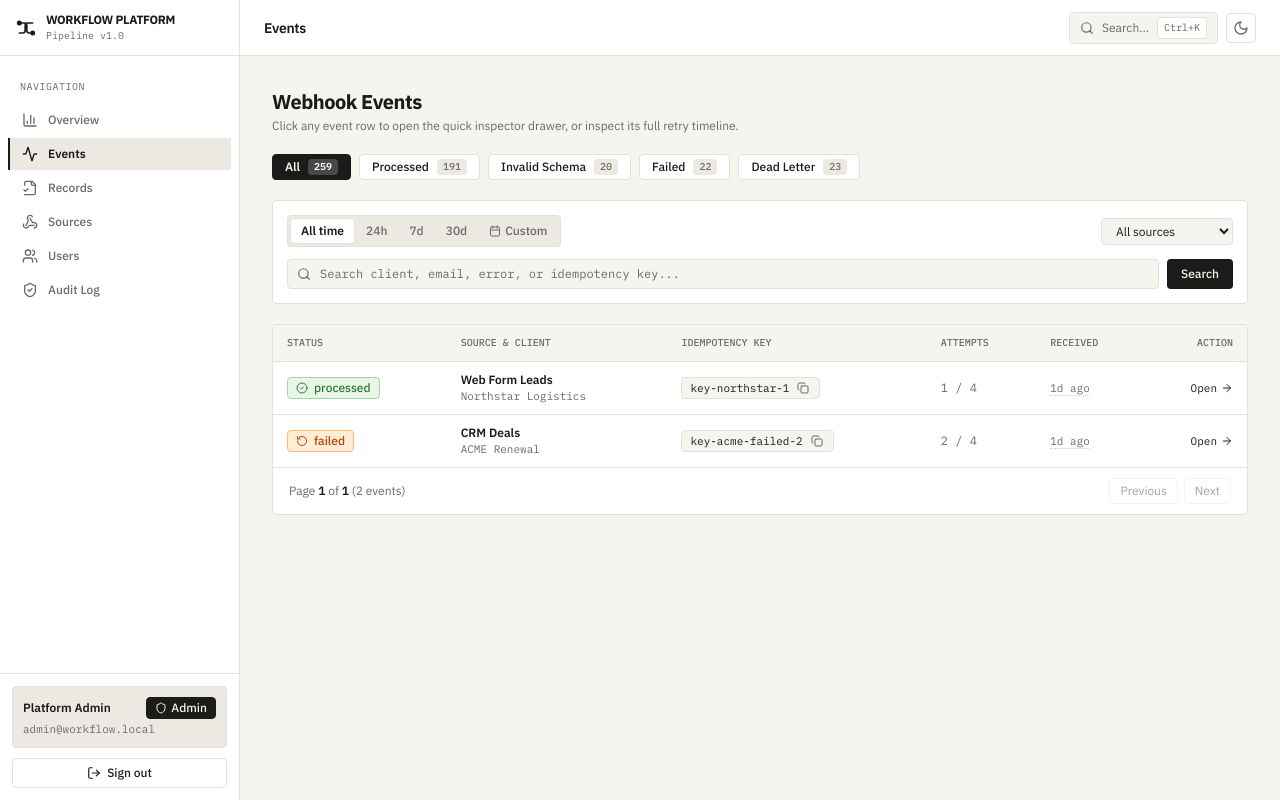
Scenario: Workflow Platform Frontend › filters events by status chips and updates active filter query
The image size is (1280, 800).
Expected: the text "key-northstar-1" is shown, [690,380,790,396]
Expected: the text "key-acme-failed-2" is shown, [690,433,803,449]
# Click Failed status chip
Click the button "Failed 22" at (685, 167), box [639,154,730,180]
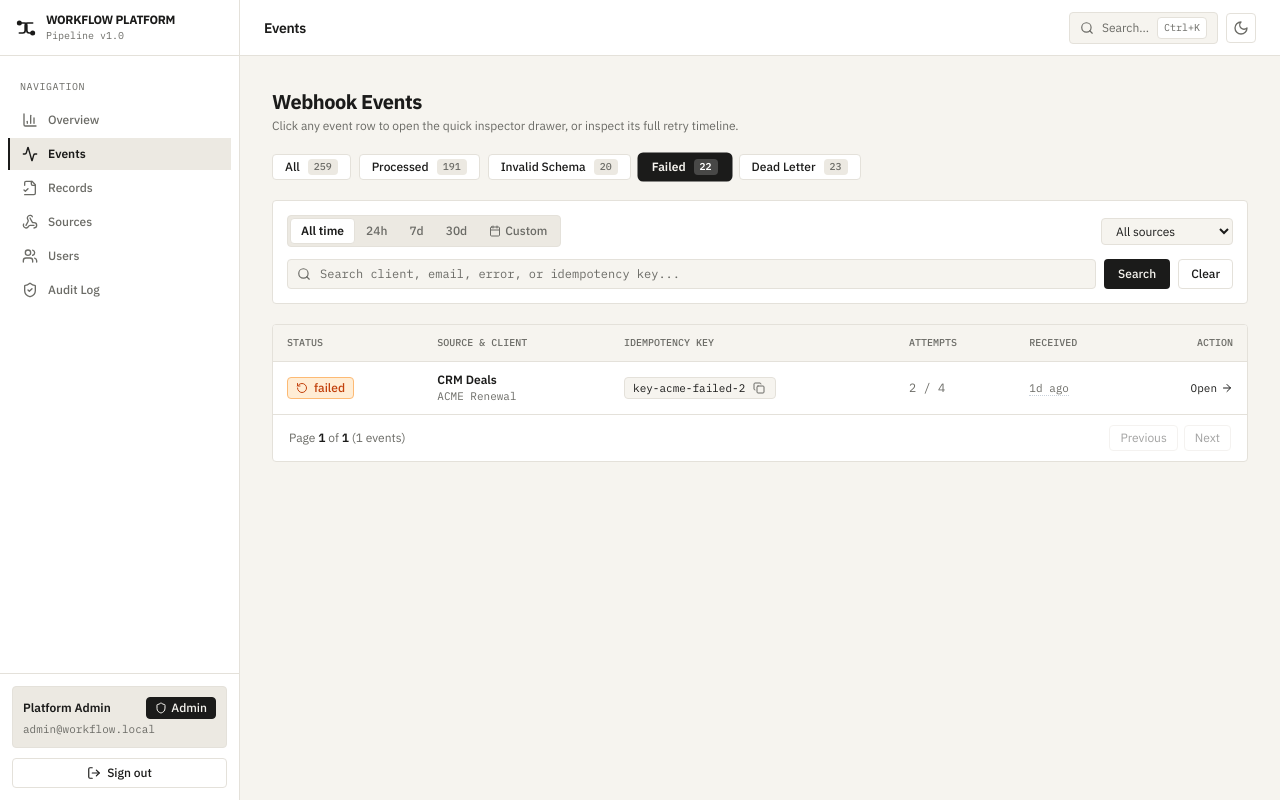
Expected: the text "key-acme-failed-2" is shown, [633,380,745,396]
Expected: the text "key-northstar-1" is gone
